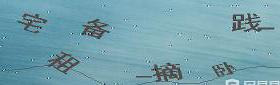chinese: (16, 12, 47, 37), (231, 11, 262, 35), (149, 60, 184, 81), (47, 52, 77, 74), (81, 17, 110, 39), (212, 58, 238, 79)
